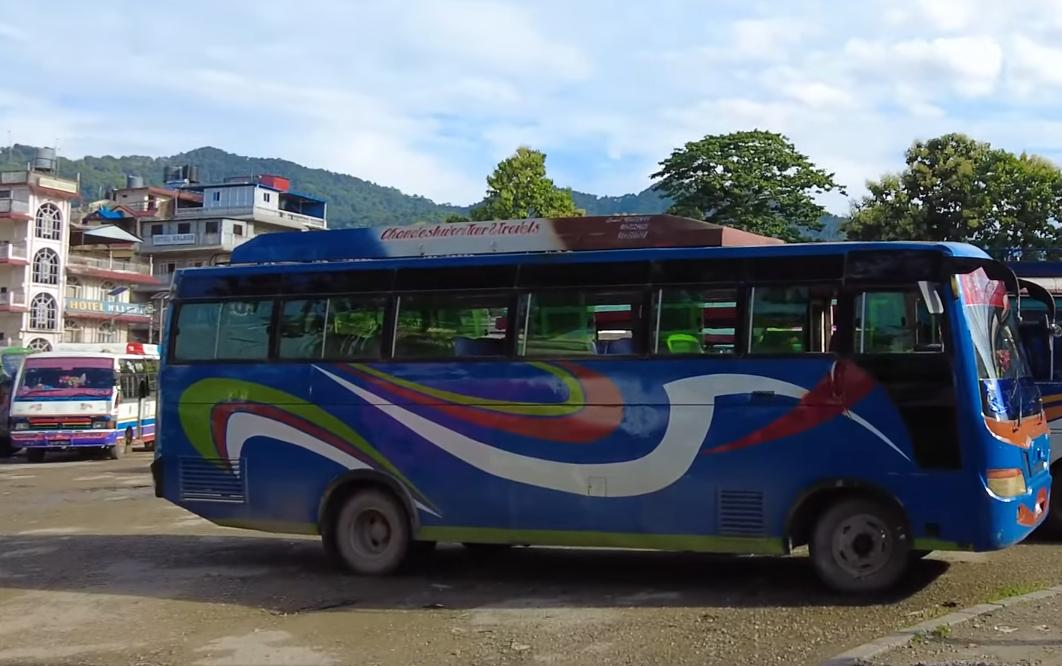bus: (155, 197, 1057, 580)
